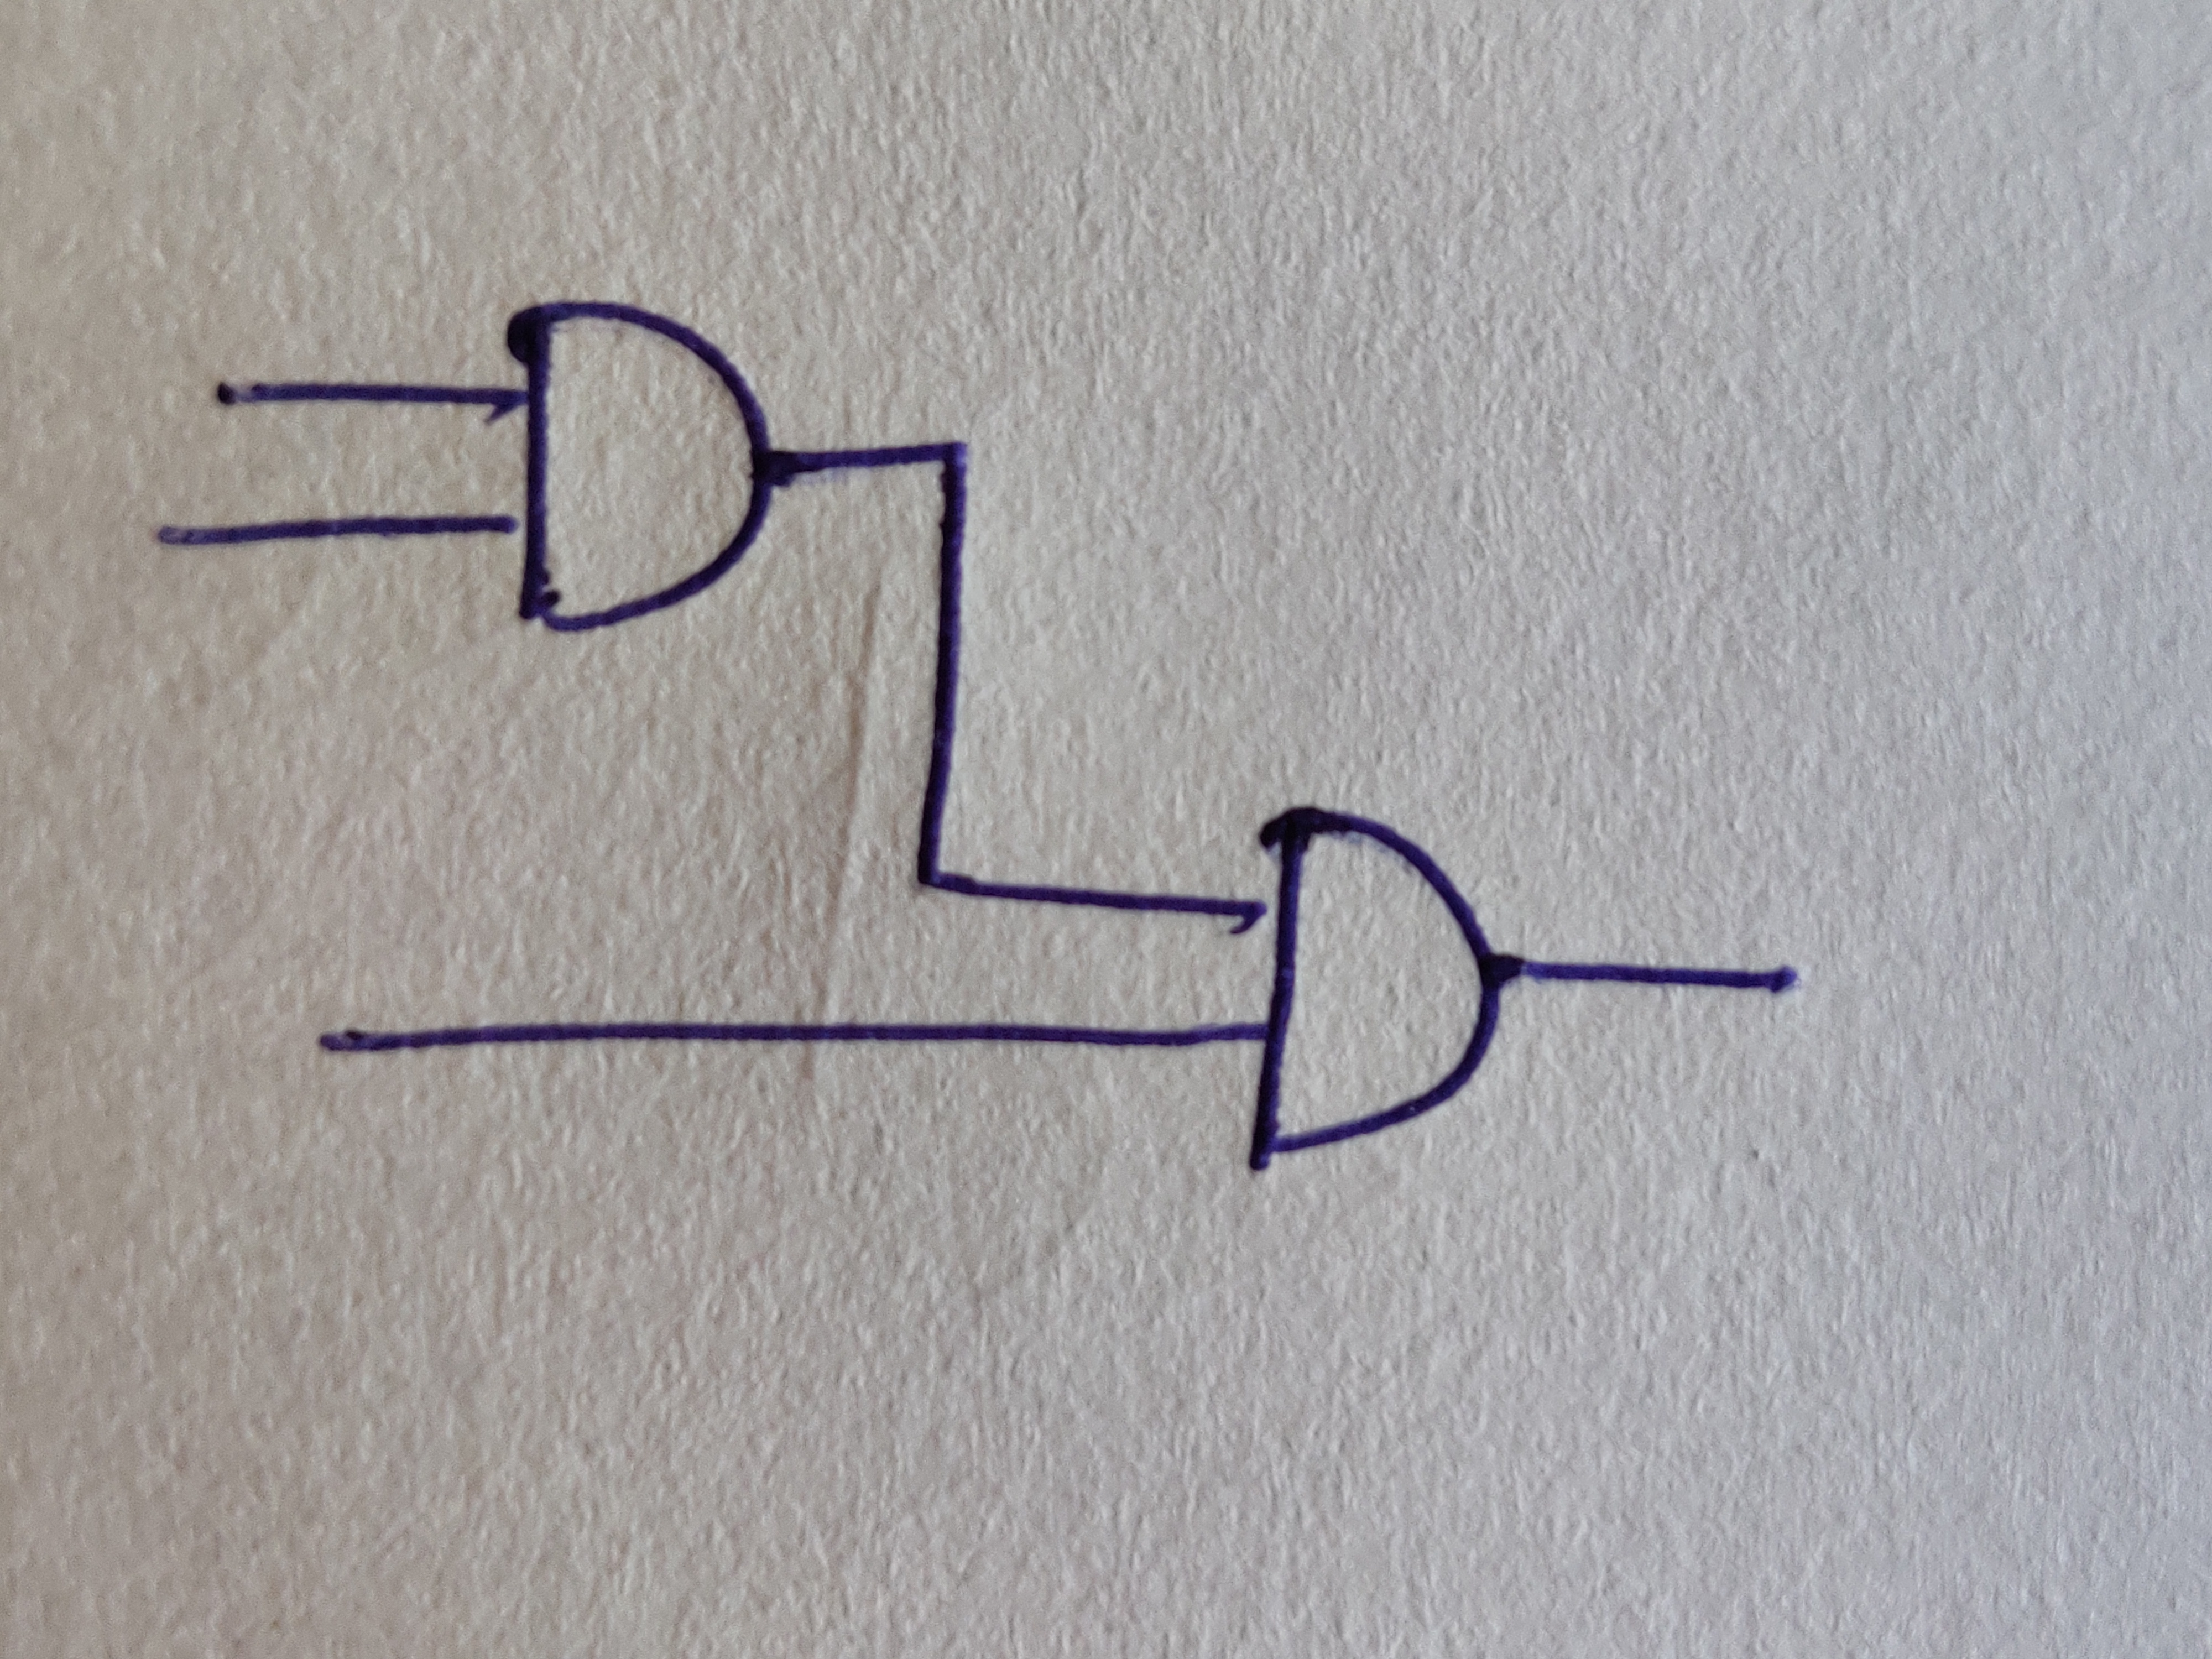and: (1249, 807, 1500, 1169), (507, 301, 773, 633)
